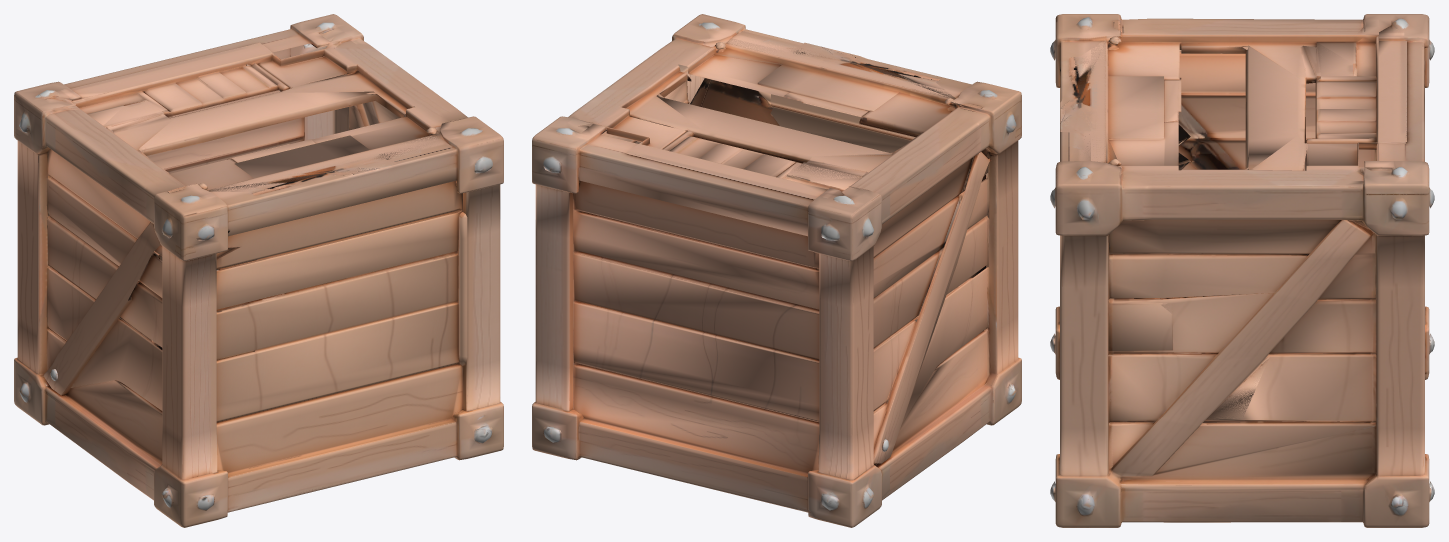
The model's file is crate.glb.
3 renders of one model, left to right at view 1: azimuth 30°, elevation 25°; view 2: azimuth 150°, elevation 25°; view 3: azimuth 270°, elevation 25°, orthographic. The views are drawn at different scales.
Size of the model in its own units: 2 by 1.84 by 1.82.
1 material, 1 textured.
